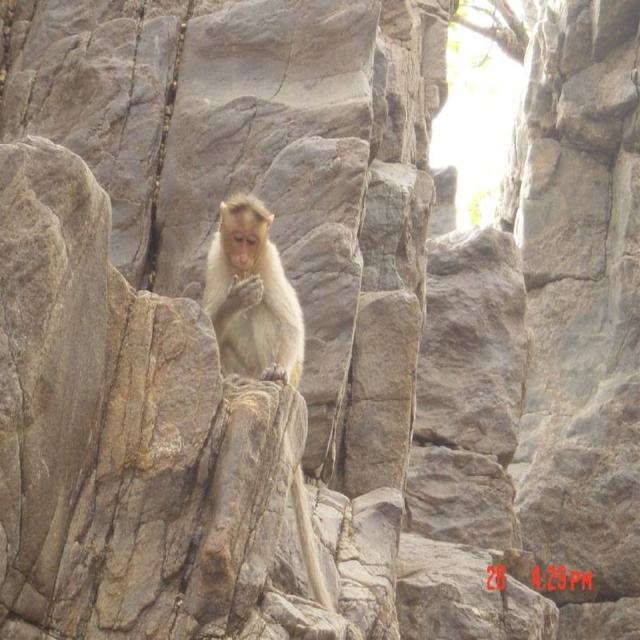Monkey: (205, 190, 336, 610)
